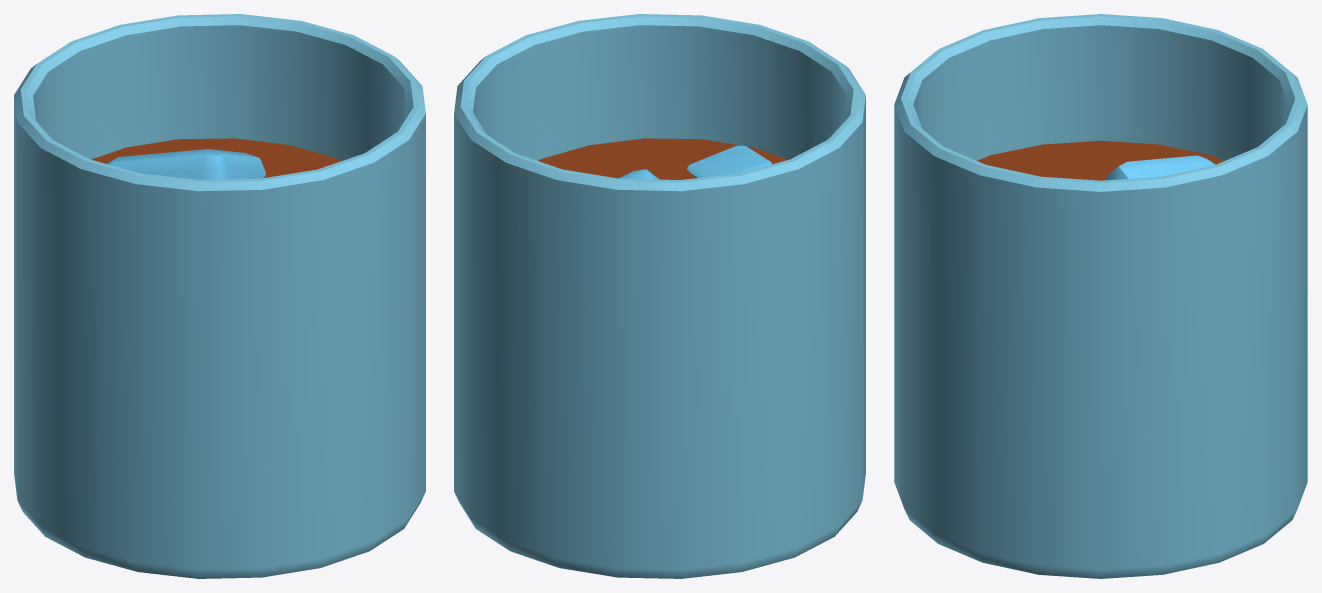
The model's file is IceTeaGlass.obj.
The picture shows the model from 3 angles, left to right: view 1: azimuth 30°, elevation 25°; view 2: azimuth 150°, elevation 25°; view 3: azimuth 270°, elevation 25°; orthographic projection.
Parts seen in each view (by area): view 1: pCylinder2, pCylinder1, pCube2; view 2: pCylinder2, pCylinder1, pCube1; view 3: pCylinder2, pCylinder1, pCube2.
Boxes of the visible parts, x1,y1,x2,y2 form: pCylinder2: (14, 14, 425, 578); pCylinder1: (91, 138, 341, 177); pCube2: (106, 149, 265, 179); pCylinder2: (454, 14, 865, 578); pCylinder1: (538, 138, 788, 179); pCube1: (687, 145, 772, 177); pCylinder2: (894, 14, 1307, 578); pCylinder1: (977, 140, 1224, 180); pCube2: (1105, 155, 1215, 180).
Size of the model in its own units: 2.2 by 2.35 by 2.2.
